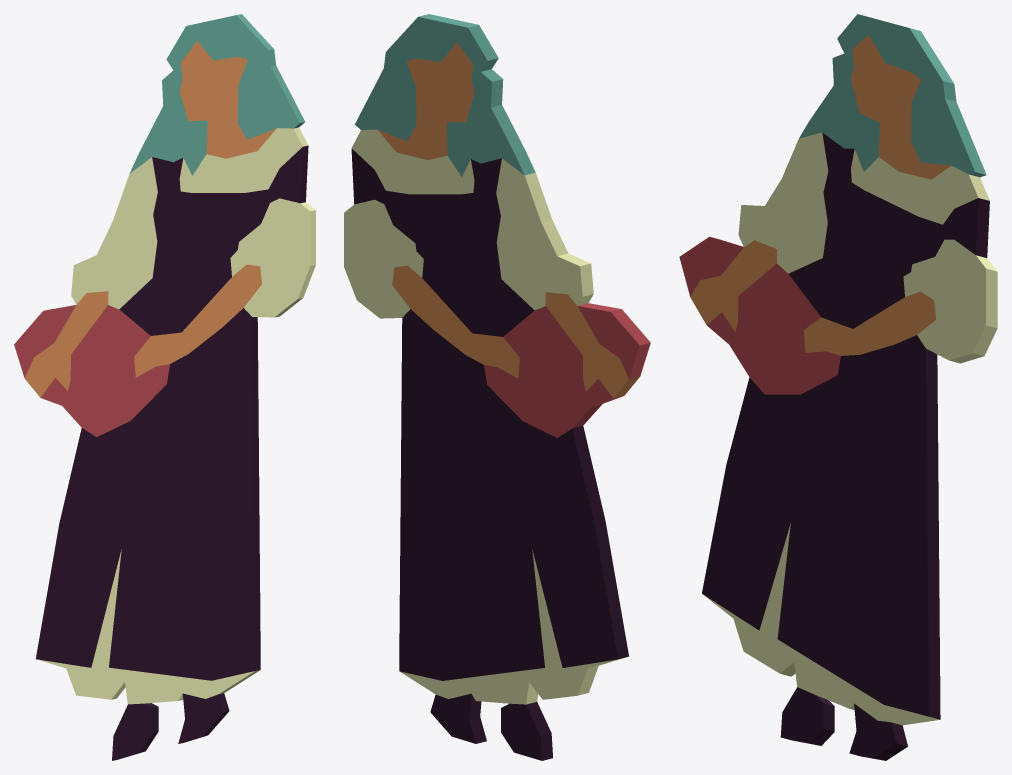
The model's file is Maid.glb.
3 renders of one model, left to right at view 1: azimuth 30°, elevation 25°; view 2: azimuth 150°, elevation 25°; view 3: azimuth 330°, elevation 25°, orthographic. The views are drawn at different scales.
Parts seen in each view (by area): view 1: Plane; view 2: Plane; view 3: Plane.
Part boxes in pixels (box(x1,y1,x2,y2)): Plane: box(14, 14, 315, 760); Plane: box(344, 14, 650, 760); Plane: box(679, 14, 997, 760).
Bounding box in the file's own units: 2.2 × 4.96 × 0.034.
